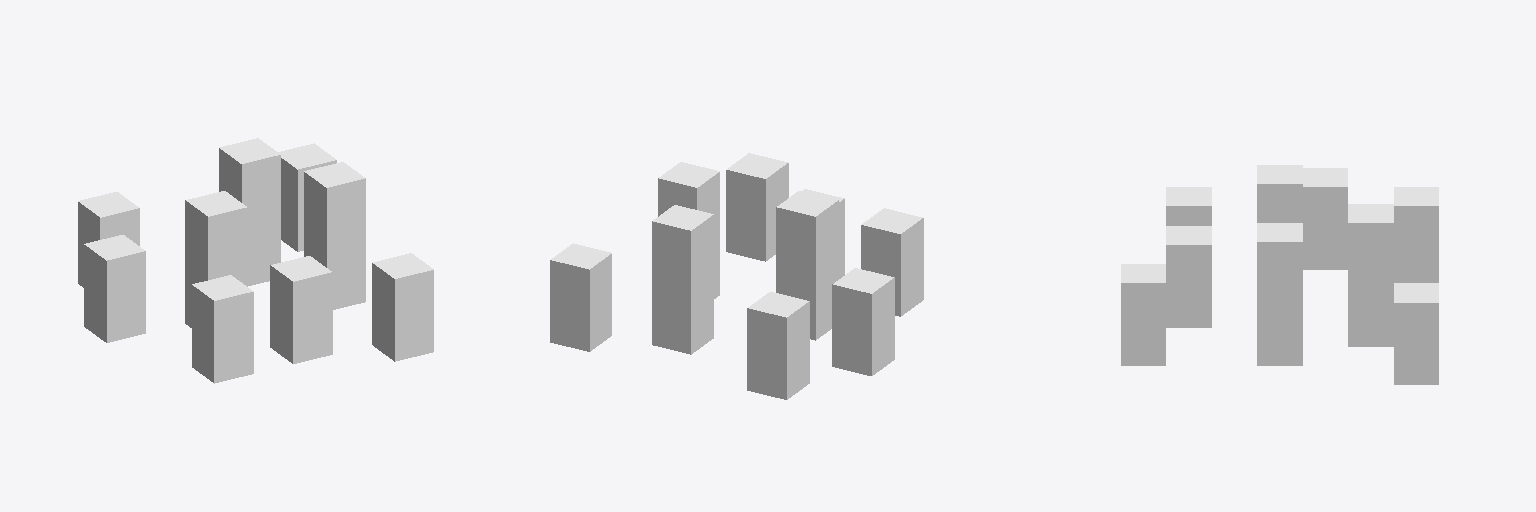
The model's file is blooming_yellow_and_blue.obj.
The picture shows the model from 3 angles: view 1: azimuth 30°, elevation 25°; view 2: azimuth 150°, elevation 25°; view 3: azimuth 270°, elevation 25°; orthographic projection.
Parts seen in each view (by area): view 1: object 1; view 2: object 1; view 3: object 1.
Part boxes in pixels (x1,y1,x2,y2): object 1: (78,138,433,383); object 1: (550,153,923,399); object 1: (1121,165,1438,384).
Bounding box in the file's own units: 0.7 × 0.3 × 0.7.